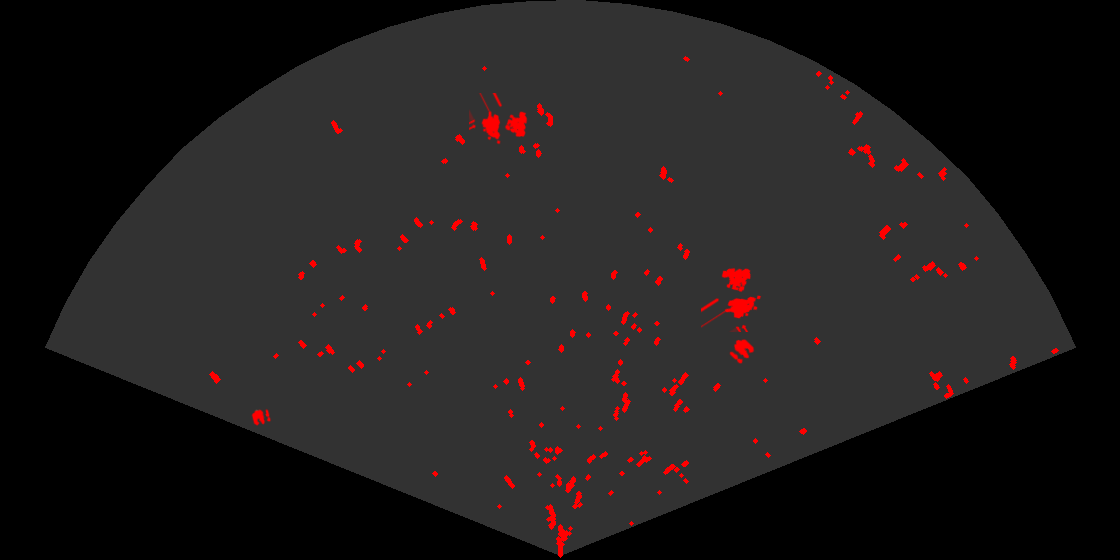ball: (728, 338, 756, 365), (250, 407, 273, 427)
cage: (701, 266, 763, 332), (469, 93, 529, 146)
